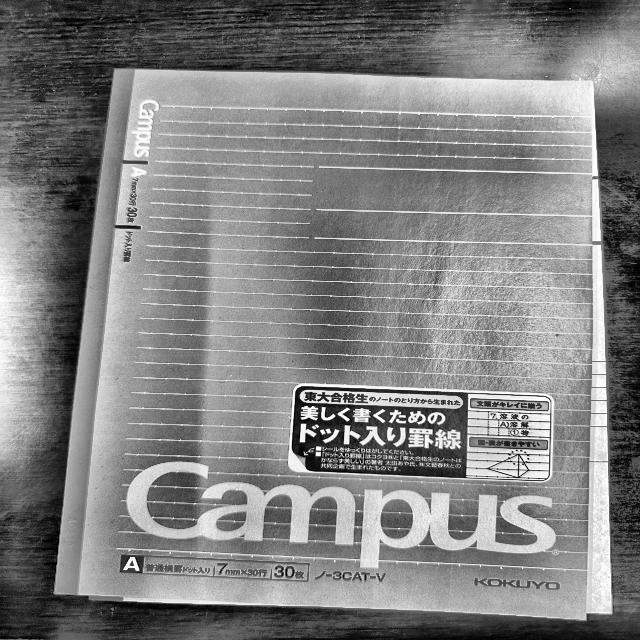Notebook: (34, 44, 620, 636)
